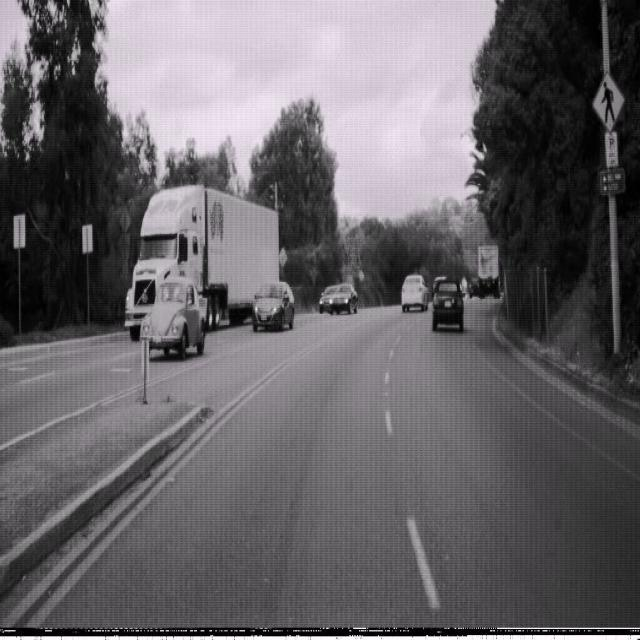pedestrianCrossing: (591, 70, 625, 134)
